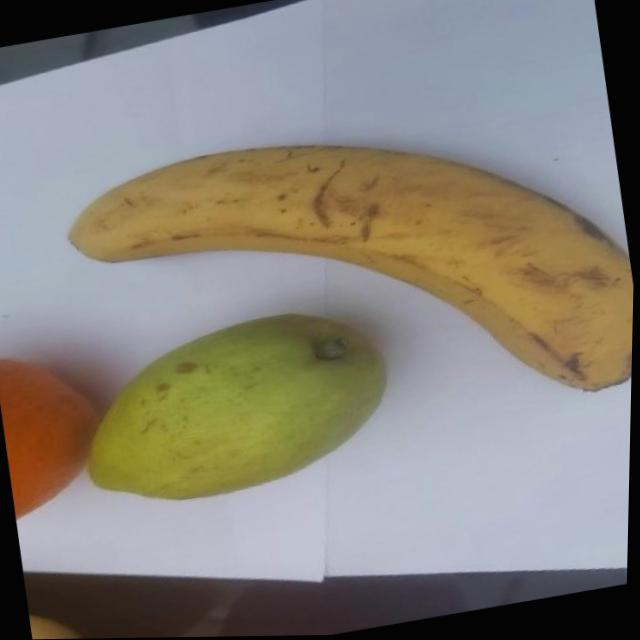Banana: (55, 86, 638, 477)
Orange: (0, 341, 118, 520)
